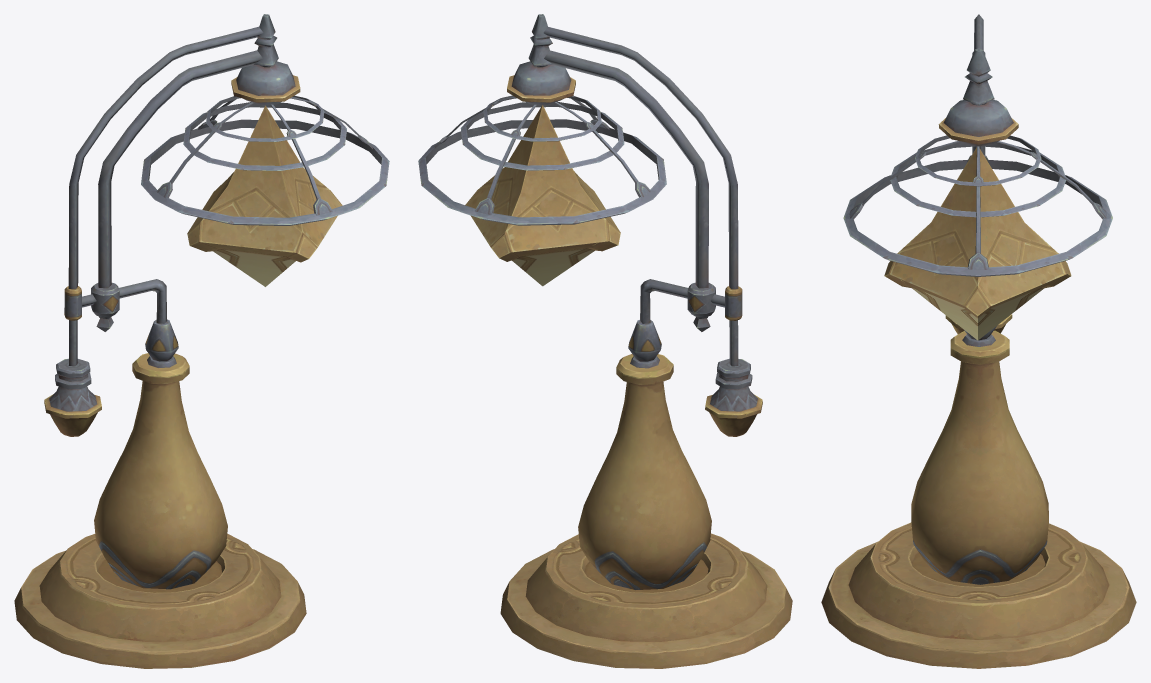
Rendered from Homeworld_Interior_Common_Light_Lamp_Apple_01_Vo.fbx.
The picture shows the model from 3 angles, left to right: view 1: azimuth 30°, elevation 25°; view 2: azimuth 150°, elevation 25°; view 3: azimuth 270°, elevation 25°; orthographic projection. The views are drawn at different scales.
Parts seen in each view (by area): view 1: Homeworld_Interior_Common_Light_Lamp_Apple_01_Vo; view 2: Homeworld_Interior_Common_Light_Lamp_Apple_01_Vo; view 3: Homeworld_Interior_Common_Light_Lamp_Apple_01_Vo.
Part boxes in pixels (x1=…): Homeworld_Interior_Common_Light_Lamp_Apple_01_Vo: x1=14, y1=14, x2=389, y2=668; Homeworld_Interior_Common_Light_Lamp_Apple_01_Vo: x1=418, y1=14, x2=792, y2=668; Homeworld_Interior_Common_Light_Lamp_Apple_01_Vo: x1=821, y1=14, x2=1136, y2=668.
Bounding box in the file's own units: 0.5282 × 0.8351 × 0.3927.
1 material, 1 textured.
